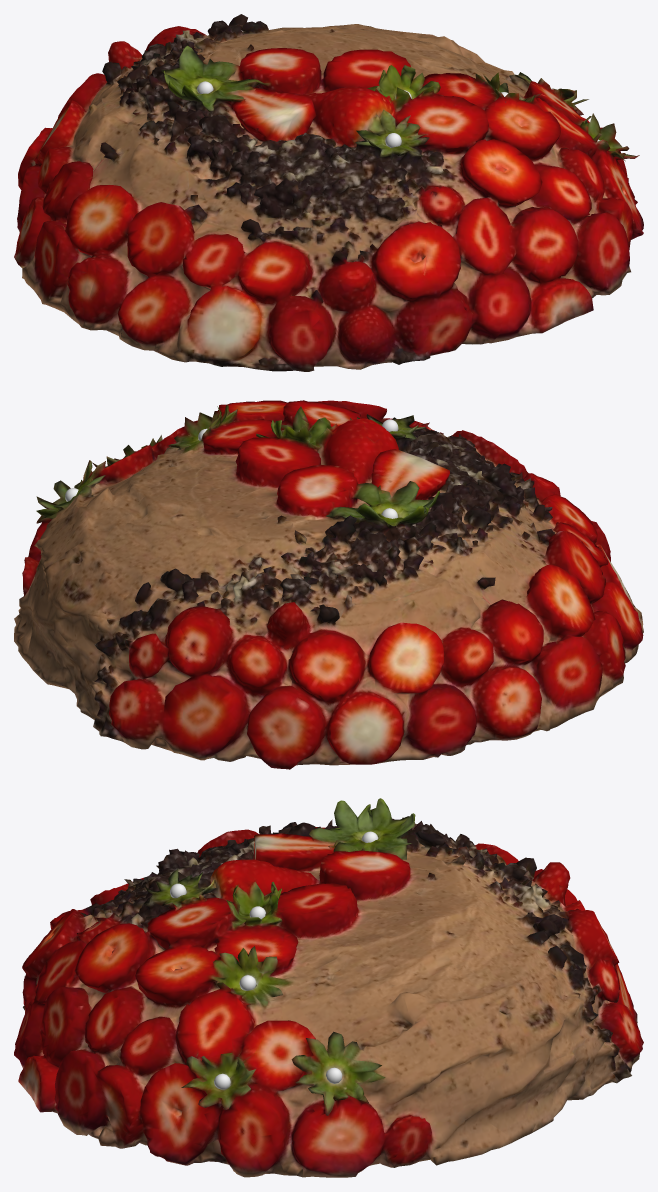
File: strawberry_chocolate_cake.glb
3 renders of one model, top to bottom at view 1: azimuth 30°, elevation 25°; view 2: azimuth 150°, elevation 25°; view 3: azimuth 270°, elevation 25°, orthographic. The views are drawn at different scales.
Visible parts, largest first — view 1: strawberry_chocolate_cake; view 2: strawberry_chocolate_cake; view 3: strawberry_chocolate_cake.
Boxes of the visible parts, left/top/right/bottom form: strawberry_chocolate_cake: left=14, top=14, right=643, bottom=371; strawberry_chocolate_cake: left=14, top=400, right=643, bottom=769; strawberry_chocolate_cake: left=14, top=798, right=643, bottom=1177.
Bounding box in the file's own units: 0.2443 × 0.0792 × 0.2403.
1 material, 1 textured.
